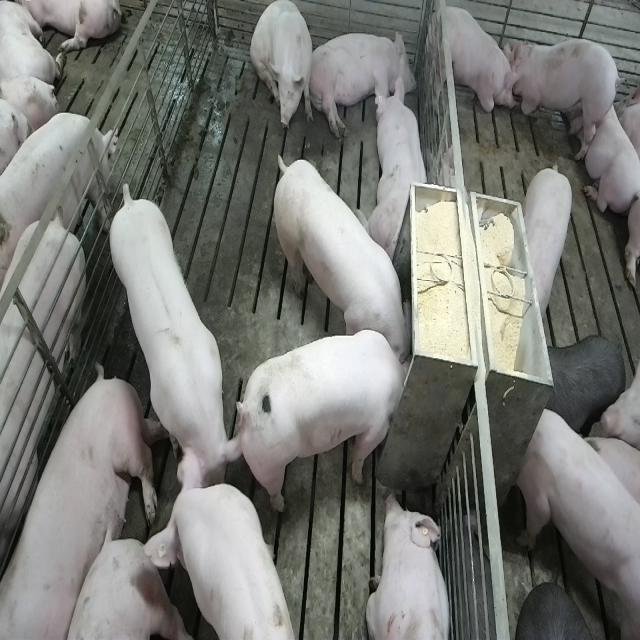Feeding: (243, 329, 420, 515), (268, 146, 411, 362)
Lateral_lying: (3, 365, 166, 640), (307, 28, 417, 140)
Sitting: (251, 2, 315, 136)
Standing: (108, 182, 245, 503), (0, 213, 87, 602), (517, 400, 638, 636), (161, 477, 301, 640), (0, 105, 114, 275), (508, 33, 618, 158), (430, 1, 518, 132), (522, 160, 576, 319), (546, 332, 626, 436)
Sternal_lying: (365, 489, 453, 640), (362, 78, 432, 264), (578, 83, 639, 212)
